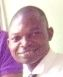without_facemask: (9, 40, 52, 65)
